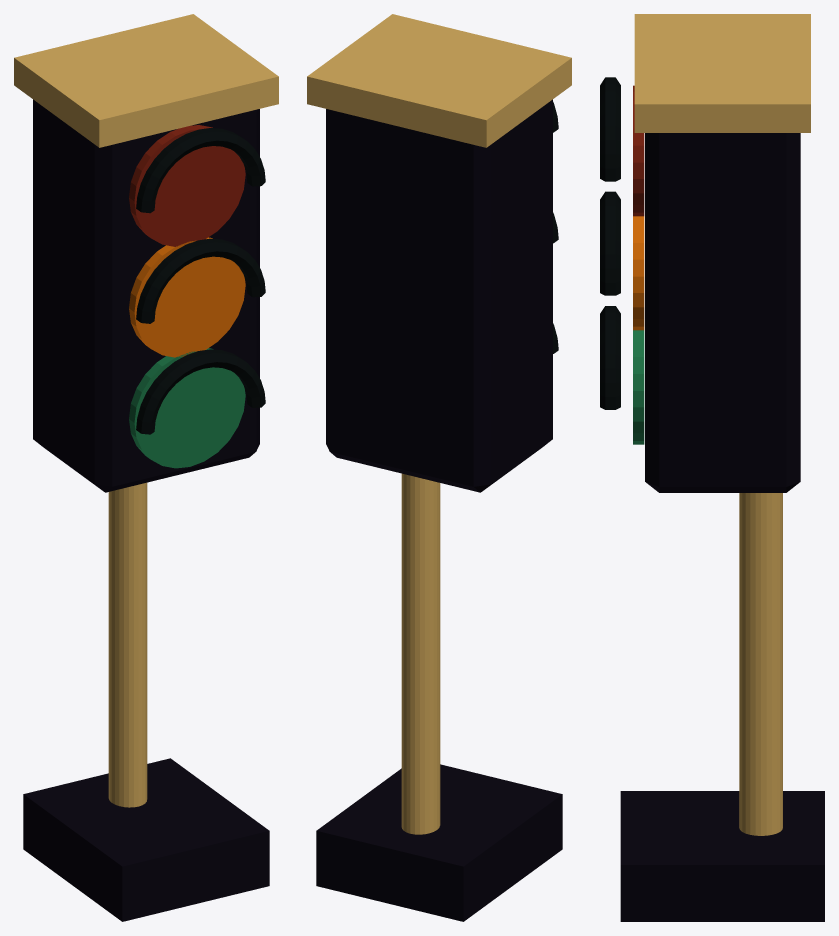
Rendered from traffic_signal_neon6.fbx.
3 views of the same model, side by side, from view 1: azimuth 30°, elevation 25°; view 2: azimuth 150°, elevation 25°; view 3: azimuth 270°, elevation 25° (orthographic). The views are drawn at different scales.
Parts seen in each view (by area): view 1: Part_1, Part_0, Part_2; view 2: Part_1, Part_0; view 3: Part_1, Part_0.
Boxes of the visible parts, bbox=[...] form: Part_1: bbox=[14, 14, 278, 492]; Part_0: bbox=[23, 482, 269, 921]; Part_2: bbox=[106, 110, 256, 492]; Part_1: bbox=[307, 14, 571, 489]; Part_0: bbox=[316, 452, 562, 921]; Part_1: bbox=[600, 14, 810, 492]; Part_0: bbox=[620, 482, 824, 921].
Bounding box in the file's own units: 0.85 × 3.62 × 0.895.
